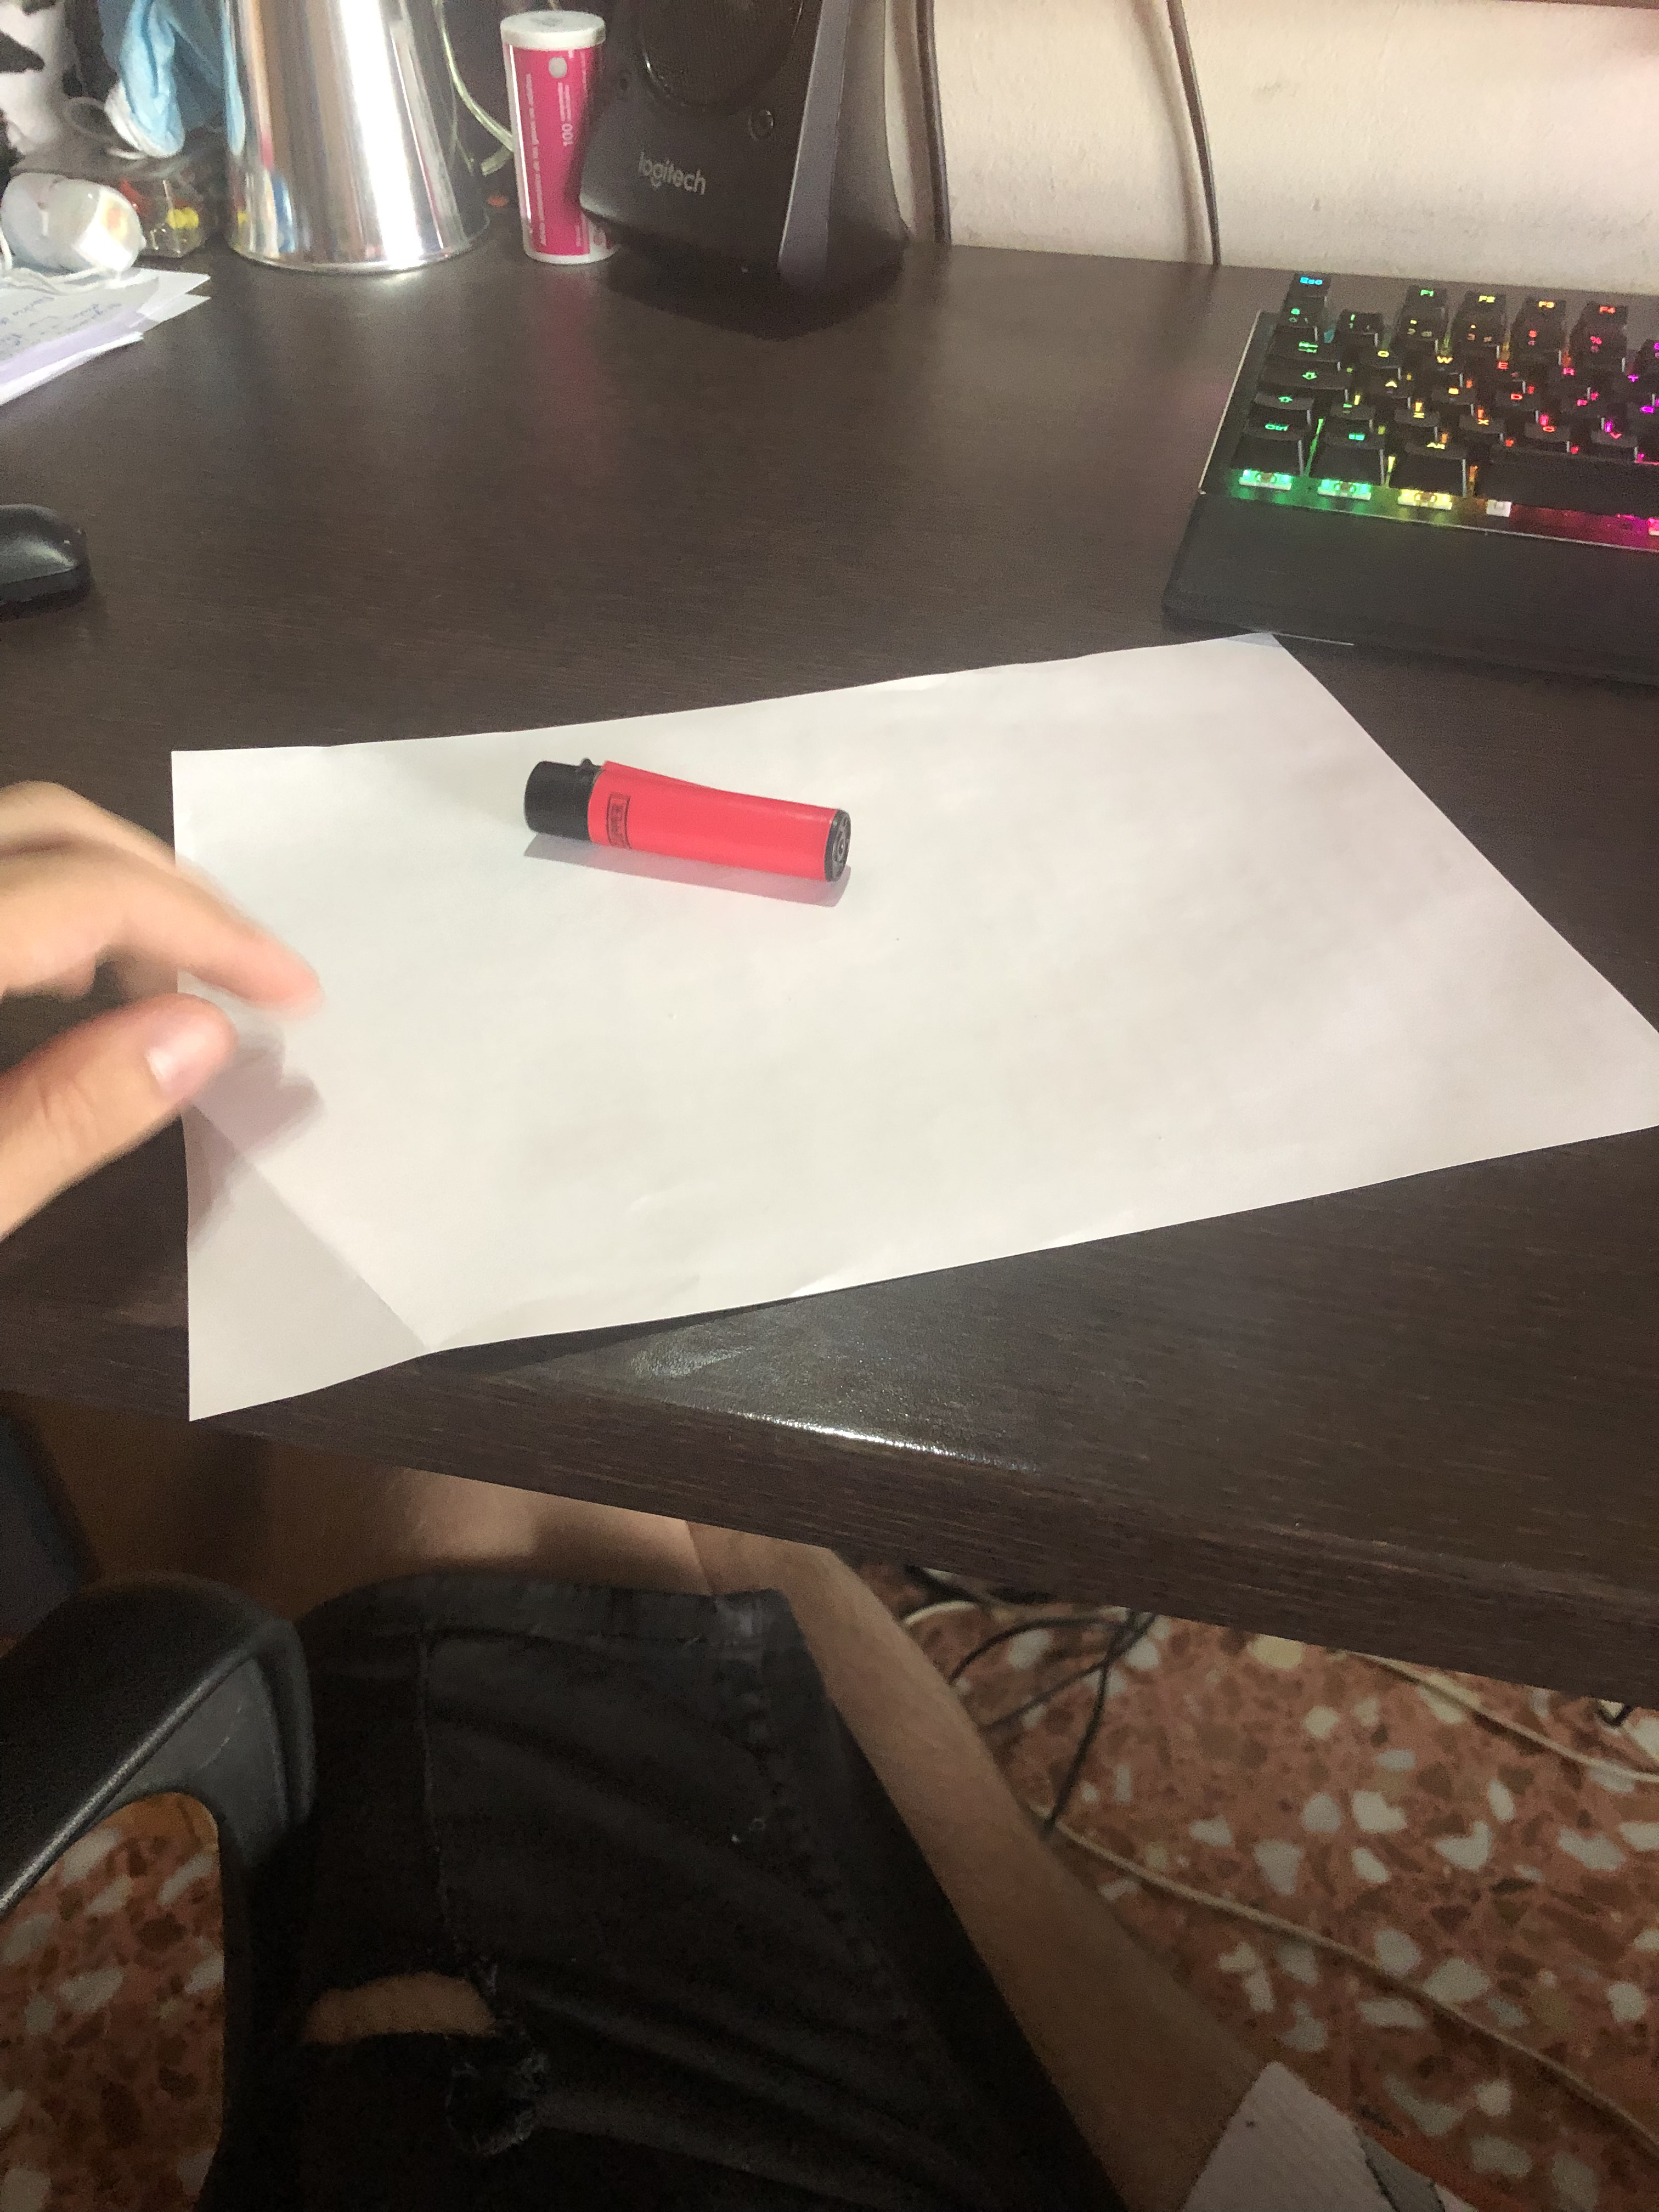Mechero: (457, 742, 878, 920)
